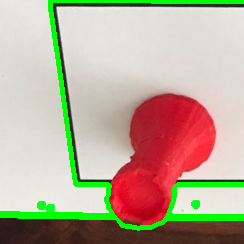Red Castle: (108, 92, 217, 226)
